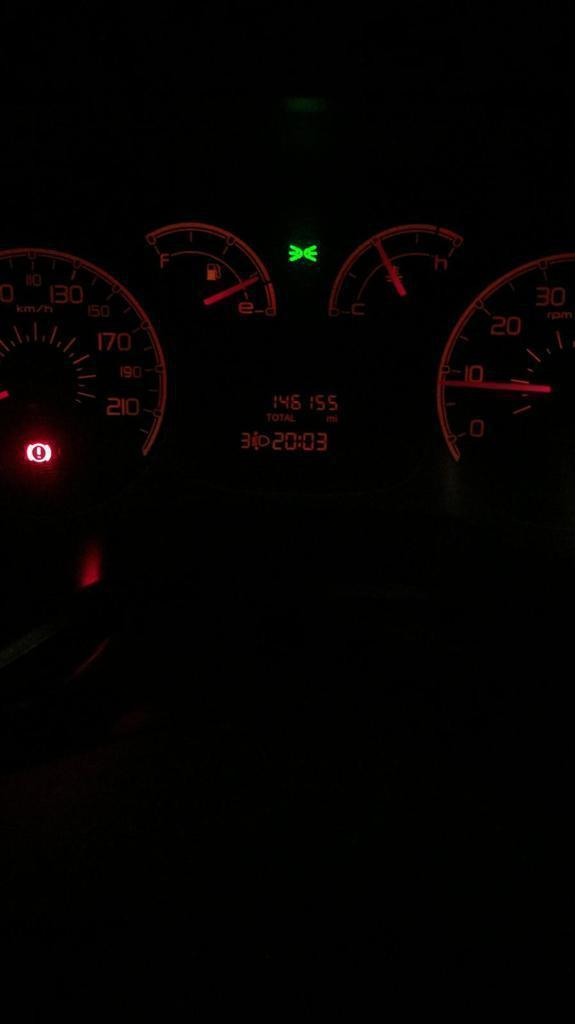0: (284, 431, 297, 450), (302, 432, 315, 450)
1: (308, 395, 314, 409), (272, 395, 278, 408)
2: (271, 430, 283, 450)
3: (316, 432, 327, 451), (240, 431, 250, 448)
4: (278, 395, 289, 408)
5: (326, 393, 338, 411), (315, 394, 325, 410)
6: (290, 394, 302, 410)
X: (272, 413, 279, 421), (326, 415, 334, 422), (297, 435, 301, 448), (284, 413, 290, 421), (290, 414, 296, 422), (266, 412, 271, 421), (279, 413, 284, 421), (334, 415, 338, 423)
odometer: (221, 380, 355, 458)
